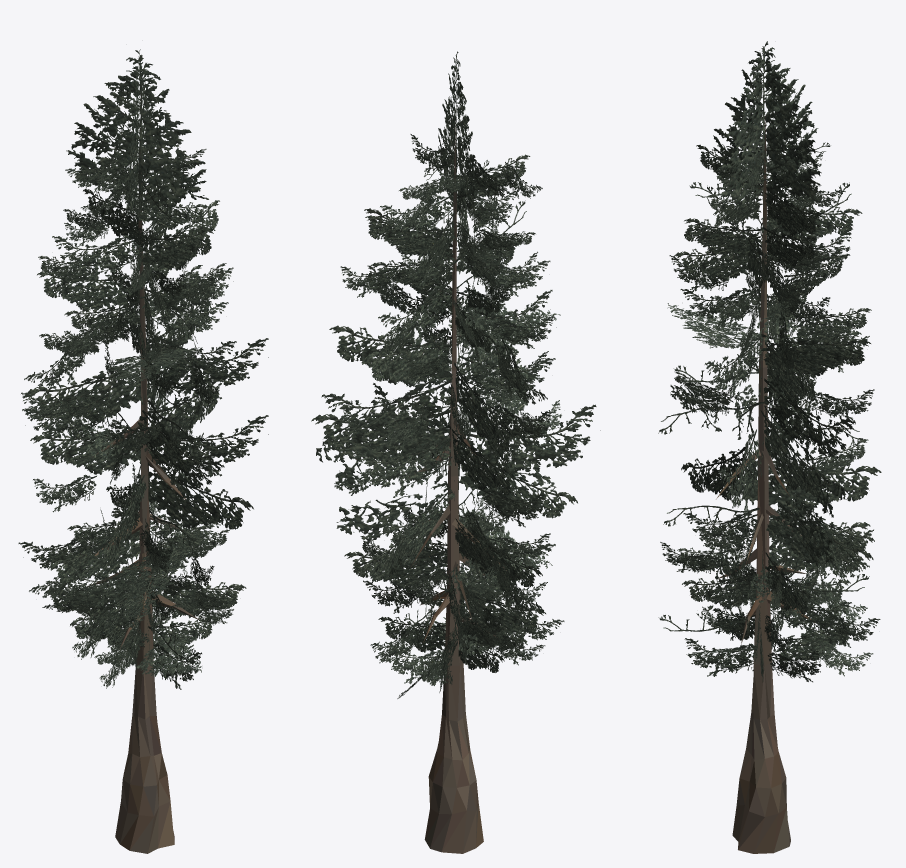
File: kiefer_n0.glb
3 renders of one model, left to right at view 1: azimuth 30°, elevation 25°; view 2: azimuth 150°, elevation 25°; view 3: azimuth 270°, elevation 25°, orthographic.
Visible parts, largest first — view 1: laub, rinde; view 2: laub, rinde; view 3: laub, rinde.
Boxes of the visible parts, x1=… form: laub: x1=18, y1=49, x2=268, y2=689; rinde: x1=87, y1=123, x2=200, y2=853; laub: x1=311, y1=51, x2=600, y2=698; rinde: x1=404, y1=125, x2=506, y2=853; laub: x1=658, y1=41, x2=881, y2=682; rinde: x1=716, y1=114, x2=814, y2=853.
Bounding box in the file's own units: 3.23 × 10.5 × 3.09.
Materials: 2 (1 with a texture image).
